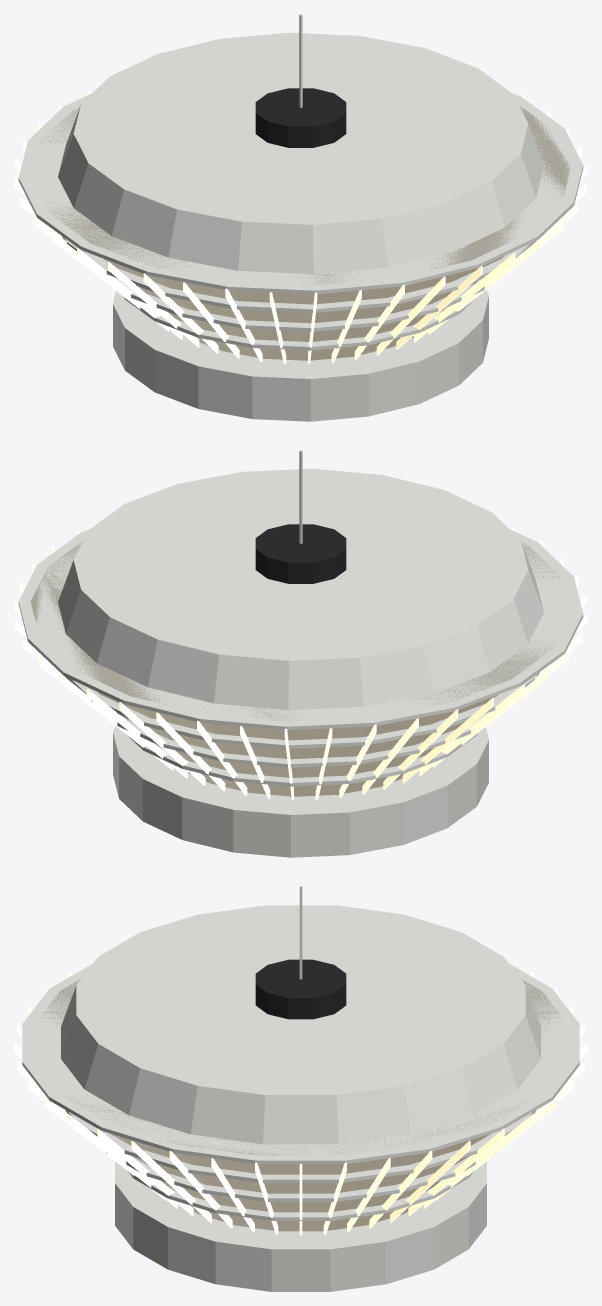
The model's file is mtl_casino.glb.
The picture shows the model from 3 angles, top to bottom: view 1: azimuth 30°, elevation 25°; view 2: azimuth 150°, elevation 25°; view 3: azimuth 270°, elevation 25°; orthographic projection.
Parts seen in each view (by area): view 1: montreal-casino; view 2: montreal-casino; view 3: montreal-casino.
Part boxes in pixels (x1,y1,x2,y2): montreal-casino: [14, 14, 587, 421]; montreal-casino: [14, 450, 587, 857]; montreal-casino: [14, 886, 587, 1291].
Size of the model in its own units: 73.2 by 46 by 73.2.
